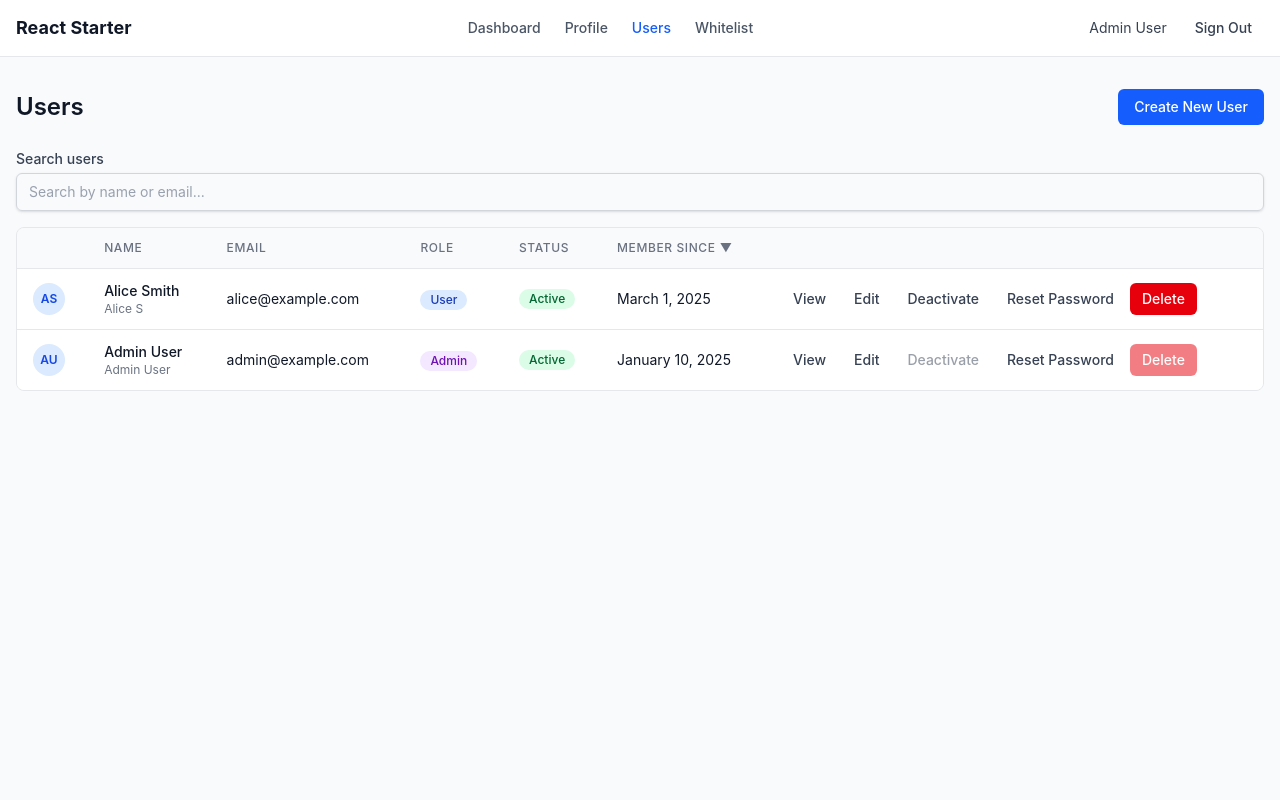
Scenario: UserListPage › opens delete confirmation dialog requiring email
The width and height of the screenshot is (1280, 800).
Expected: the text "Alice Smith" is shown, [104,282,179,299]
Click the button "Delete" in the row of "Smith".
click(1163, 299)  # box [1130,283,1197,315]
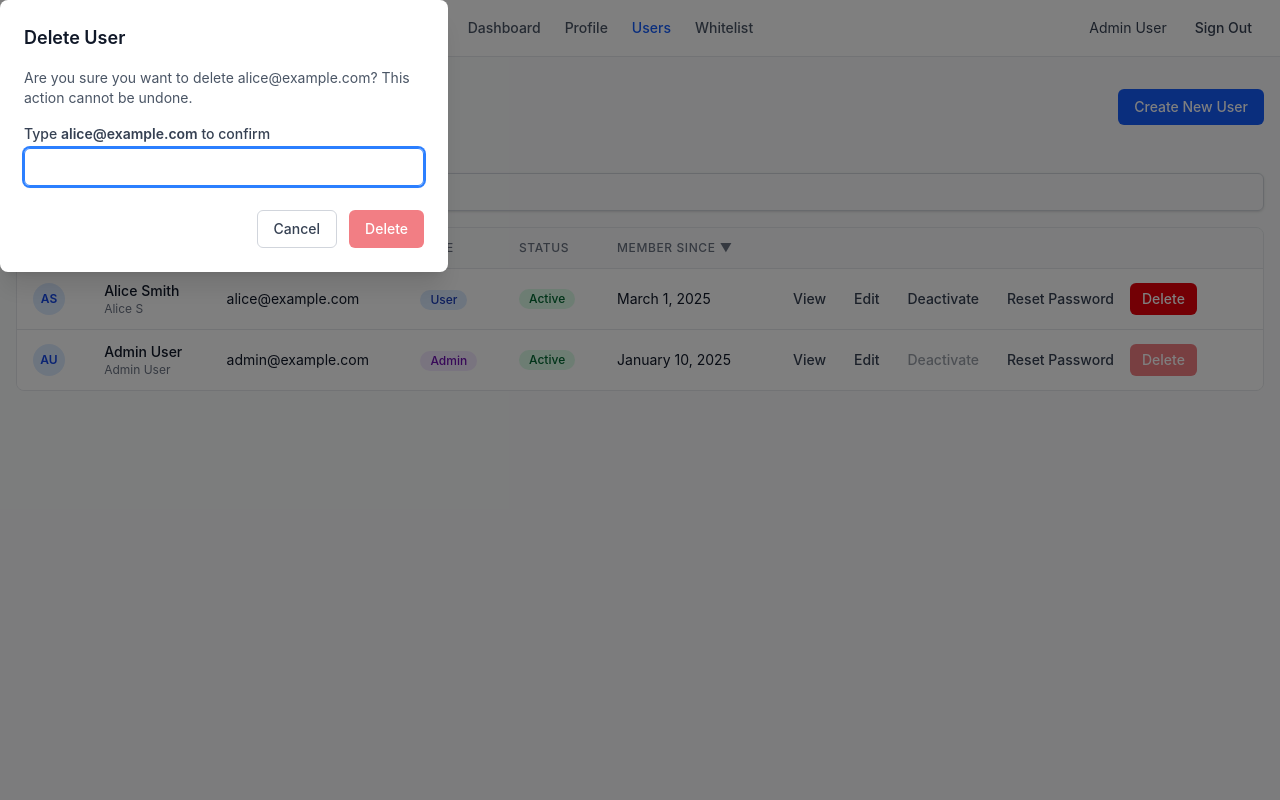
Expected: the heading "Delete User" is shown, [24,27,125,48]
Expected: the button "Delete" is disabled, [349,210,424,248]
Type "alice@example.com" into the field labelled "Type alice@example.com to confirm".
click(224, 167); type("alice@example.com")  # box [24,148,424,186]
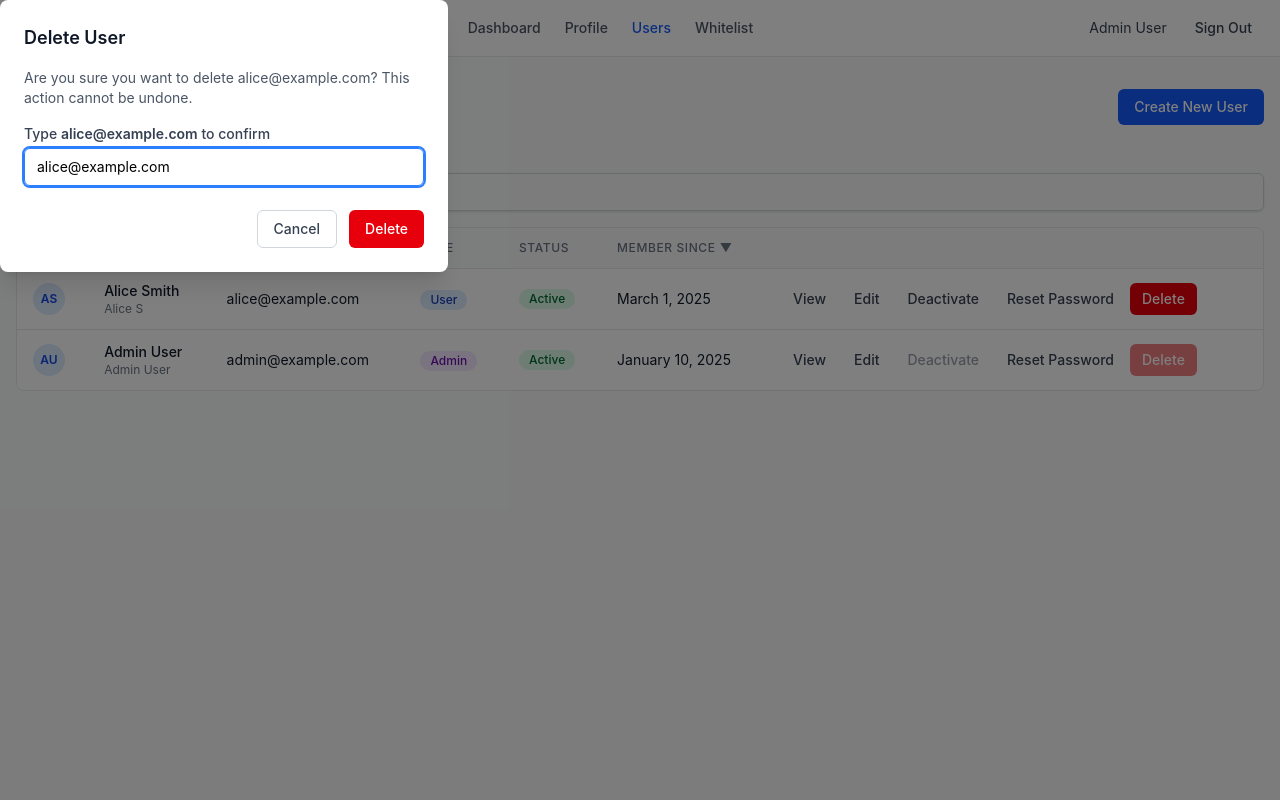
Expected: the button "Delete" is enabled, [349,210,424,248]
